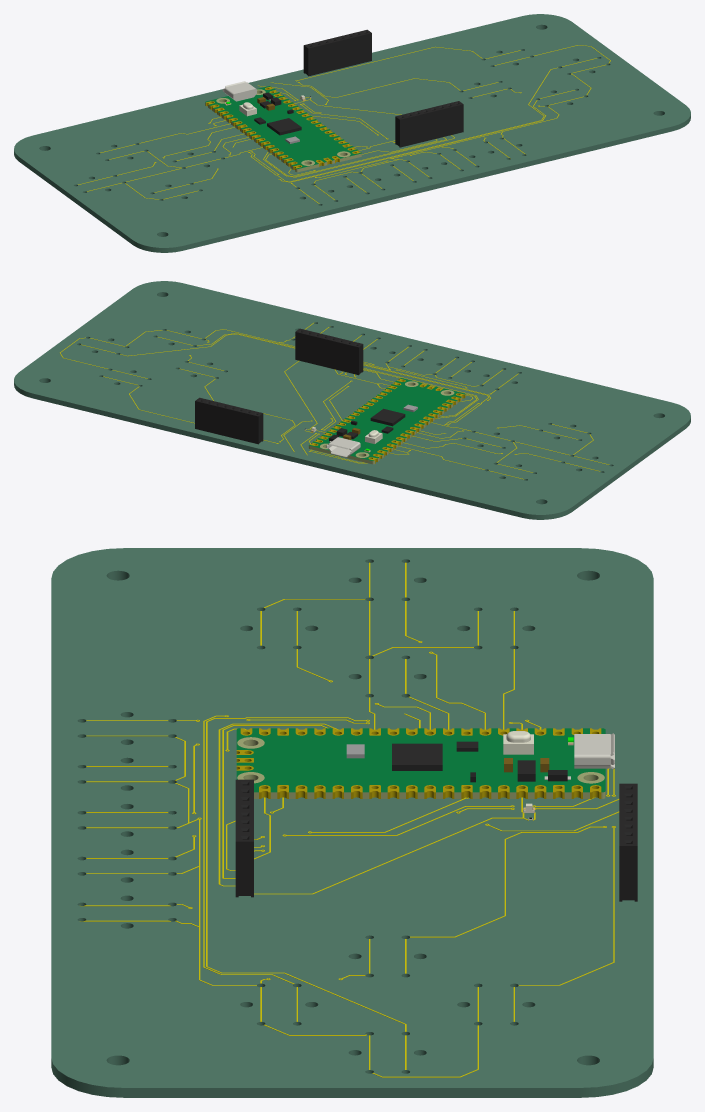
Rendered from pcb-model.glb.
The picture shows the model from 3 angles, top to bottom: view 1: azimuth 30°, elevation 25°; view 2: azimuth 150°, elevation 25°; view 3: azimuth 270°, elevation 25°; orthographic projection. The views are drawn at different scales.
Visible parts, largest first — view 1: =>[0:1:1:8], RaspberryPi_Pico_Module_KiCad, J2 (×2), =>[0:1:1:6]; view 2: =>[0:1:1:8], RaspberryPi_Pico_Module_KiCad, J2 (×2), =>[0:1:1:6]; view 3: =>[0:1:1:8], RaspberryPi_Pico_Module_KiCad, =>[0:1:1:6], J2 (×2).
Part boxes in pixels (box(x1,y1,x2,y2)): =>[0:1:1:8]: box(14, 14, 690, 252); RaspberryPi_Pico_Module_KiCad: box(205, 81, 361, 172); J2 (×2): box(303, 29, 463, 147); =>[0:1:1:6]: box(78, 45, 610, 203); =>[0:1:1:8]: box(14, 281, 690, 519); RaspberryPi_Pico_Module_KiCad: box(308, 378, 465, 464); J2 (×2): box(195, 328, 363, 444); =>[0:1:1:6]: box(60, 322, 609, 479); =>[0:1:1:8]: box(51, 548, 653, 1097); RaspberryPi_Pico_Module_KiCad: box(236, 728, 614, 798); =>[0:1:1:6]: box(80, 562, 619, 1077); J2 (×2): box(235, 779, 637, 901).
Bounding box in the file's own units: 0.1765 × 0.0116 × 0.0832.
